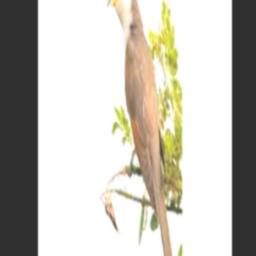Cuckoo: (108, 0, 180, 256)
